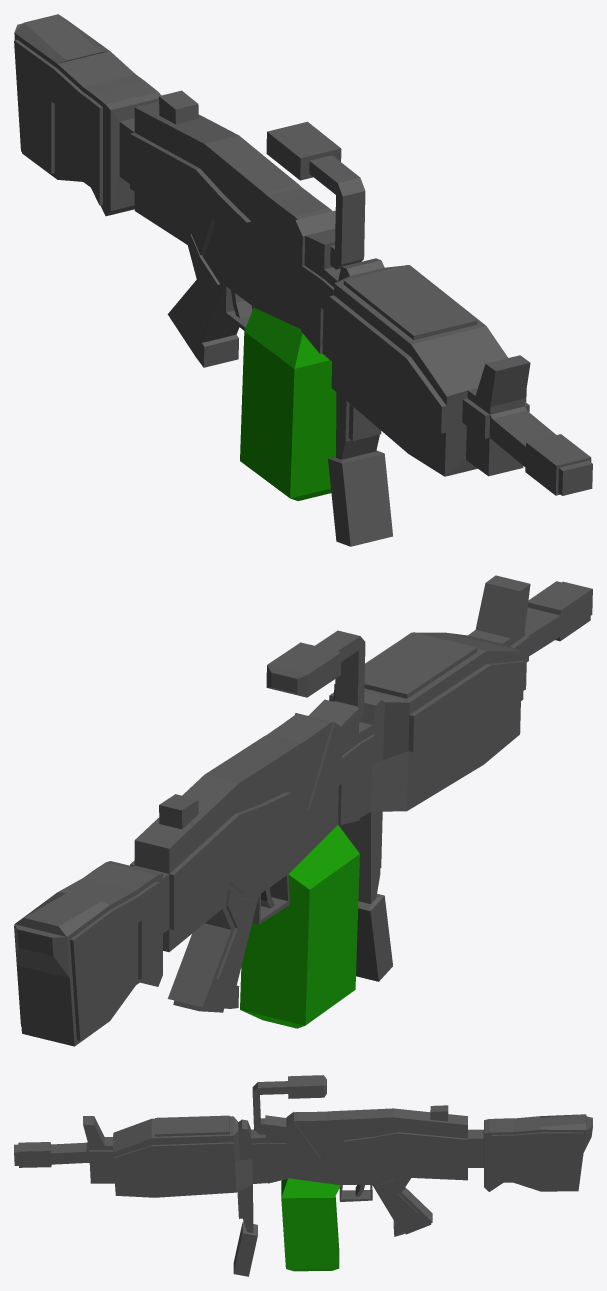
The model's file is Machine_Gun.fbx.
The picture shows the model from 3 angles, top to bottom: view 1: azimuth 30°, elevation 25°; view 2: azimuth 150°, elevation 25°; view 3: azimuth 270°, elevation 25°; orthographic projection. The views are drawn at different scales.
Visible parts, largest first — view 1: Machine Gun; view 2: Machine Gun; view 3: Machine Gun.
Boxes of the visible parts, <box> form: Machine Gun: <box>14,14,592,546</box>; Machine Gun: <box>14,575,592,1046</box>; Machine Gun: <box>14,1075,592,1276</box>.
Size of the model in its own units: 51.07 by 206 by 566.
